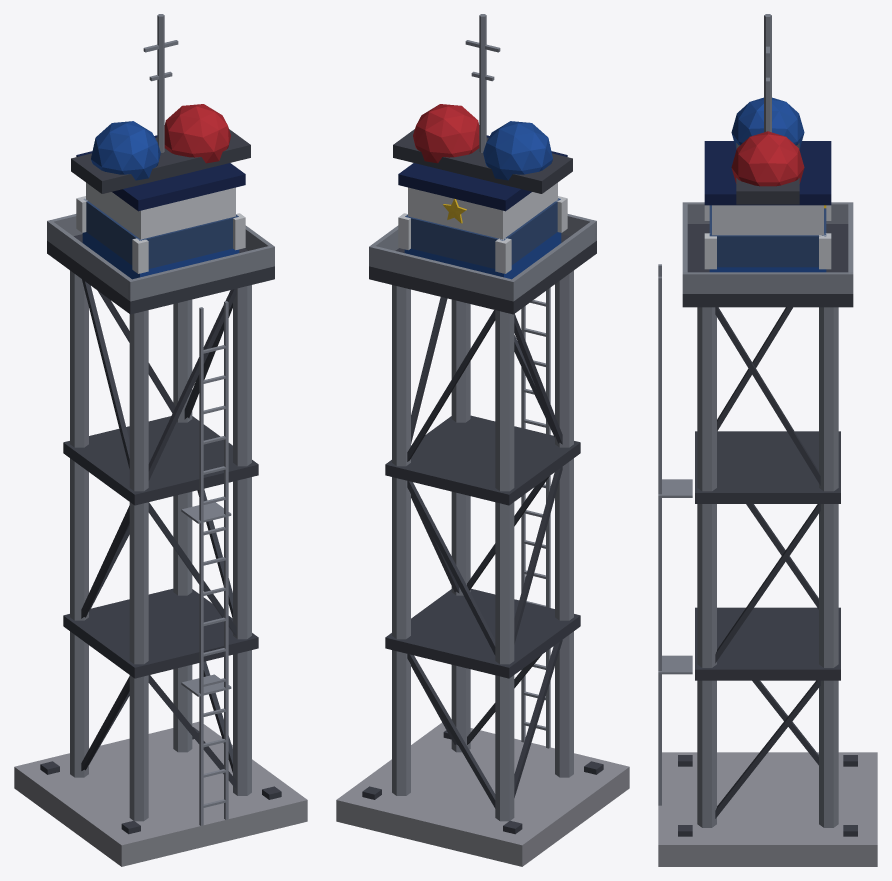
Rendered from Decor_PoliceStation_Beacon.fbx.
3 views of the same model, side by side, from view 1: azimuth 30°, elevation 25°; view 2: azimuth 150°, elevation 25°; view 3: azimuth 270°, elevation 25° (orthographic).
Parts seen in each view (by area): view 1: Beacon_Body; view 2: Beacon_Body; view 3: Beacon_Body.
Boxes of the visible parts, x1,y1,x2,y2 form: Beacon_Body: (14,14,307,866); Beacon_Body: (336,14,629,866); Beacon_Body: (658,14,877,866).
Bounding box in the file's own units: 9 × 36.5 × 9.
